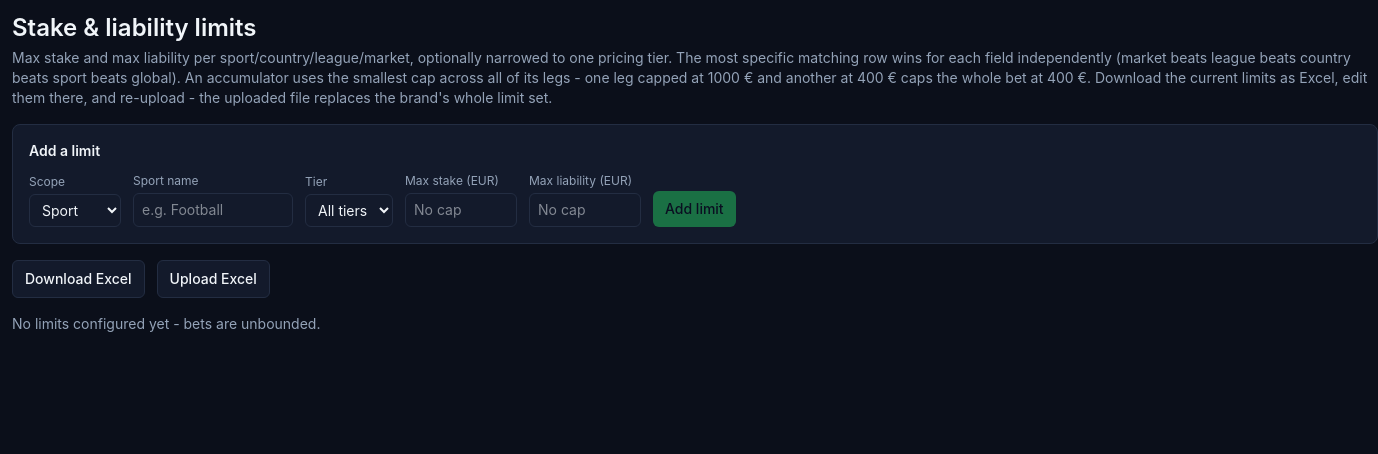
Test case: StakeLimitsPage › adds a new limit via POST
The image size is (1378, 454).
Expected: the text "No limits configured yet - bets are unbounded." is shown, [12,315,320,332]
Step 1. Type "Tennis" into the field with placeholder "e.g. Football" → [213, 210], box [133,193,293,227]
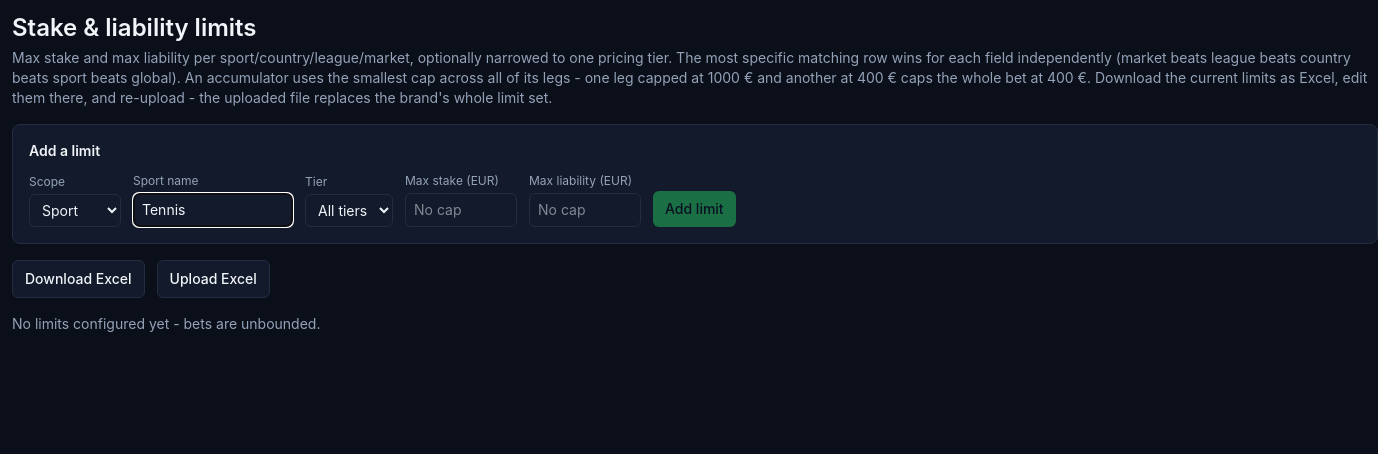
Step 2. Type "400" into the field labelled "Max stake (EUR)" → [461, 210], box [405,193,517,227]
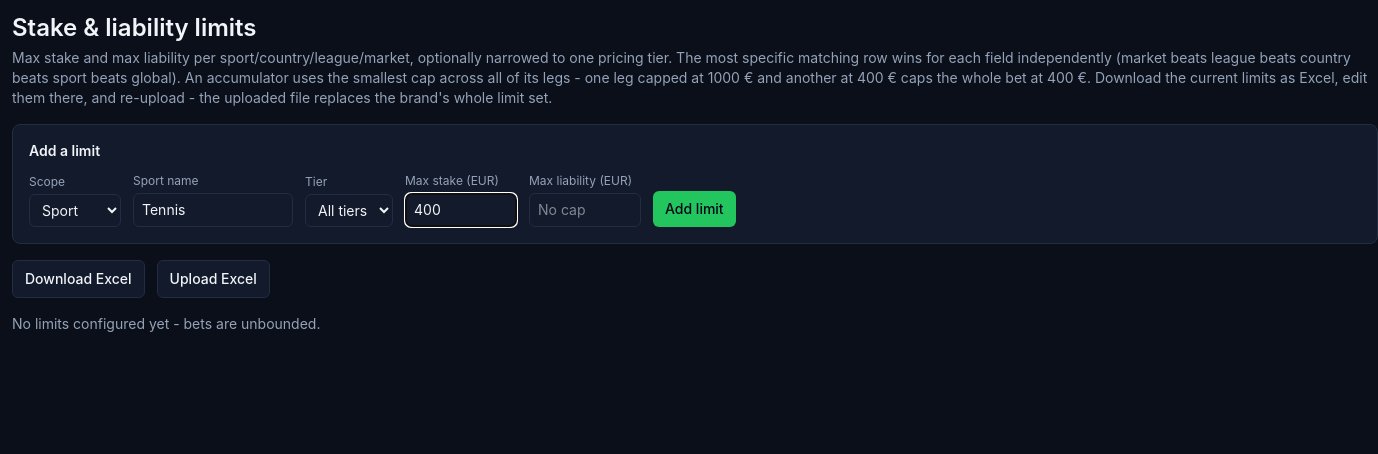
Step 3. Click the button "Add limit" → [694, 209], box [653,191,736,227]
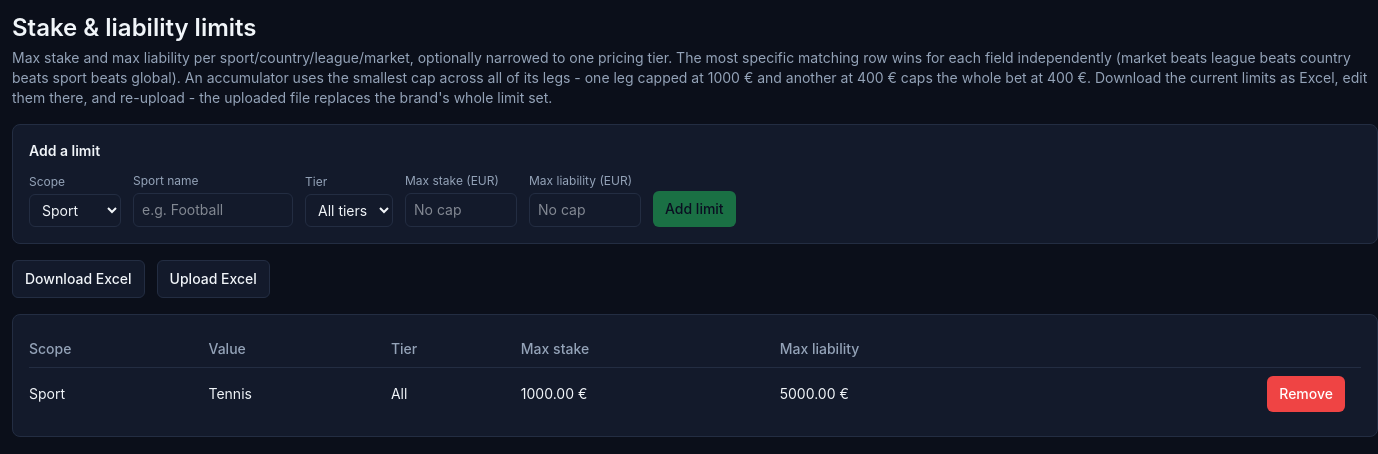
Expected: the text "Tennis" is shown, [208,368,391,420]
